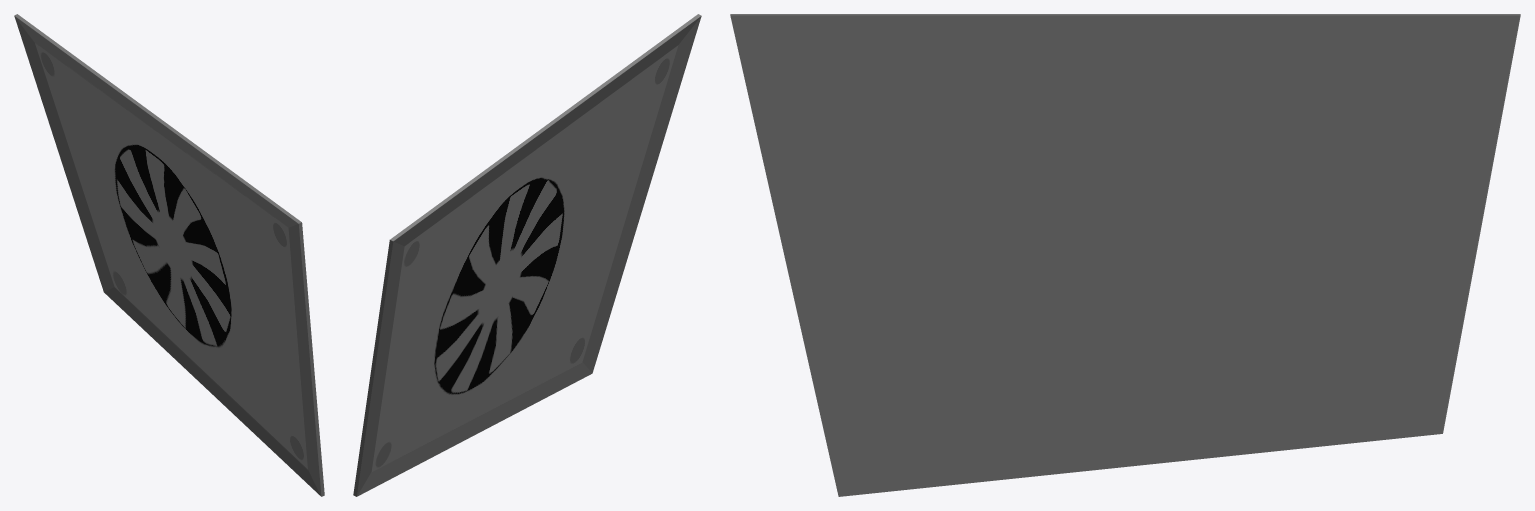
The model's file is vent_grid_V3.FBX.
3 views of the same model, side by side, from view 1: azimuth 30°, elevation 25°; view 2: azimuth 150°, elevation 25°; view 3: azimuth 270°, elevation 25° (orthographic). The views are drawn at different scales.
Visible parts, largest first — view 1: vent_grid_vent_grid; view 2: vent_grid_vent_grid; view 3: vent_grid_vent_grid.
Boxes of the visible parts, <box> form: vent_grid_vent_grid: <box>14,14,324,496</box>; vent_grid_vent_grid: <box>353,14,701,496</box>; vent_grid_vent_grid: <box>730,14,1520,496</box>.
Size of the model in its own units: 22.26 by 104 by 169.
1 material, 1 textured.
